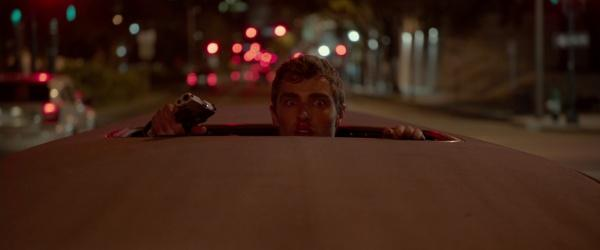Gun: (173, 90, 215, 129)
